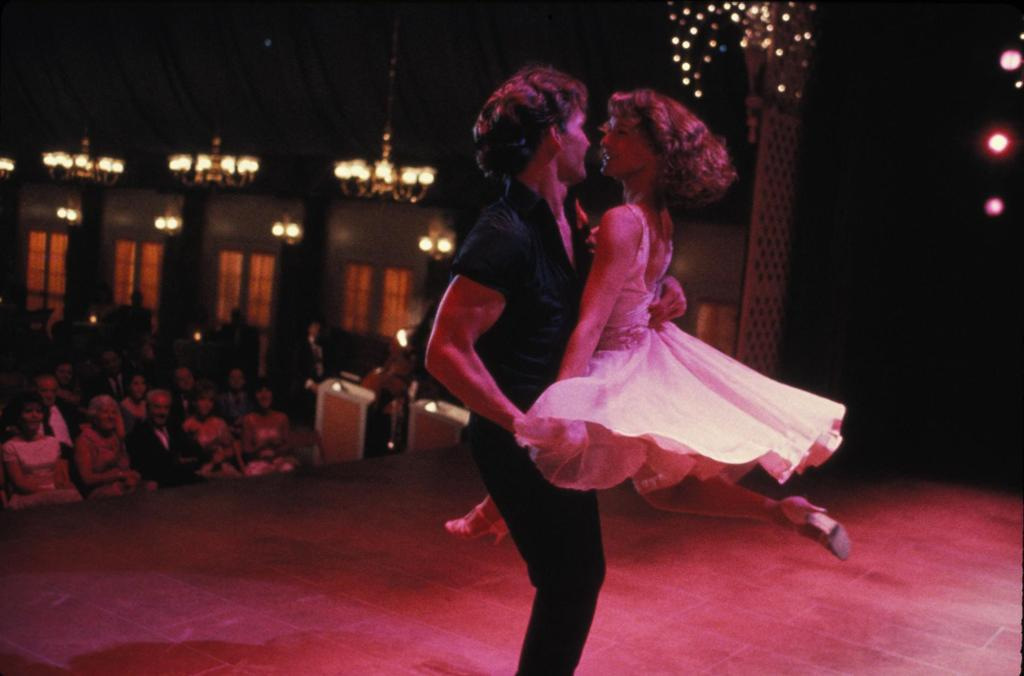face: (548, 103, 592, 179), (602, 112, 650, 174), (97, 404, 119, 430), (22, 403, 43, 430), (151, 399, 170, 423), (197, 392, 216, 416), (308, 321, 327, 345), (40, 384, 57, 406), (104, 354, 121, 375), (177, 372, 194, 392), (257, 386, 272, 408), (58, 365, 74, 385), (229, 371, 245, 391), (132, 379, 146, 400)
